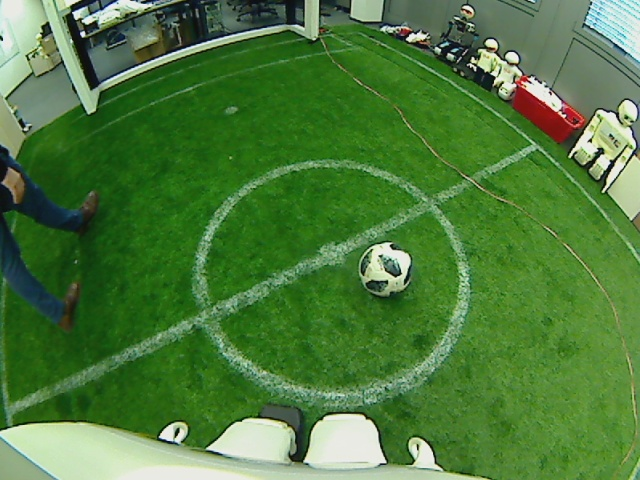ball: (358, 244, 413, 297)
